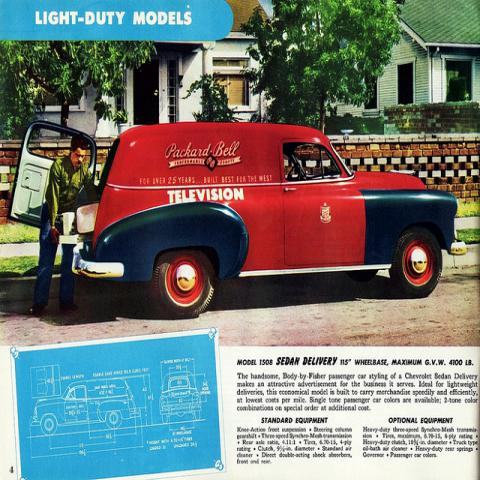car: (6, 120, 467, 320)
